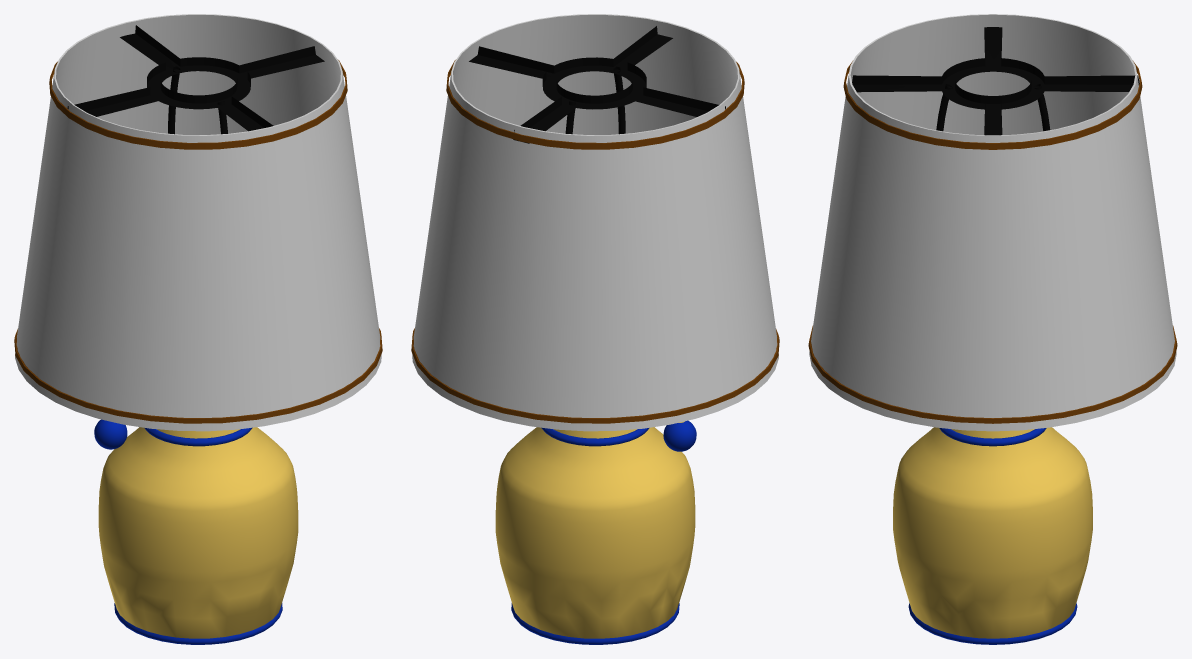
The model's file is Lamp BlueYellow.glb.
3 renders of one model, left to right at view 1: azimuth 30°, elevation 25°; view 2: azimuth 150°, elevation 25°; view 3: azimuth 270°, elevation 25°, orthographic.
Visible parts, largest first — view 1: Blu; view 2: Blu; view 3: Blu.
Boxes of the visible parts, <box> form: Blu: <box>14,14,382,644</box>; Blu: <box>411,14,779,644</box>; Blu: <box>808,14,1177,644</box>.
Size of the model in its own units: 0.4588 by 0.7339 by 0.4588.
